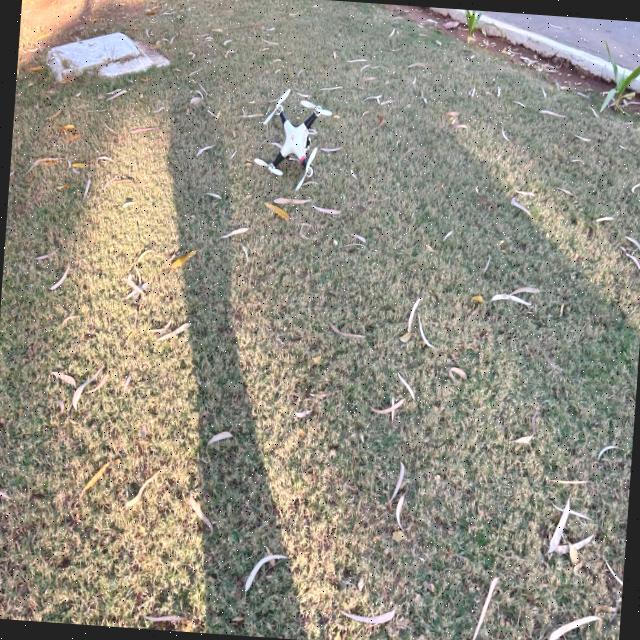drone: (242, 66, 352, 216)
